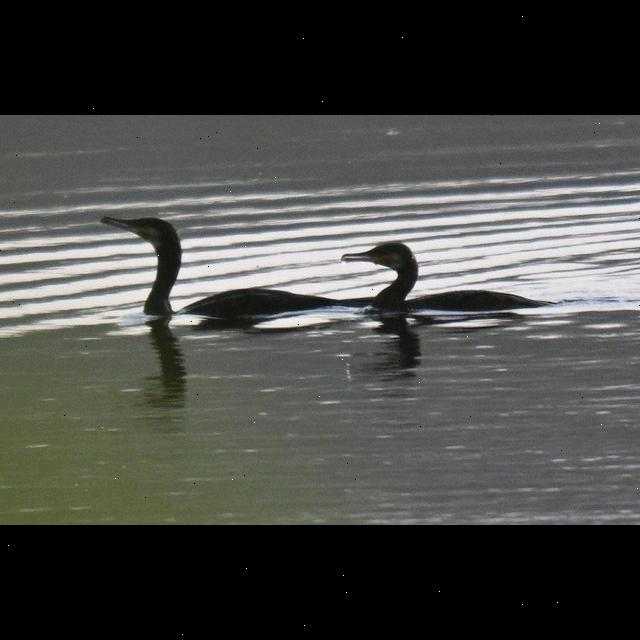cormorant: (94, 214, 338, 322), (339, 240, 551, 328)
